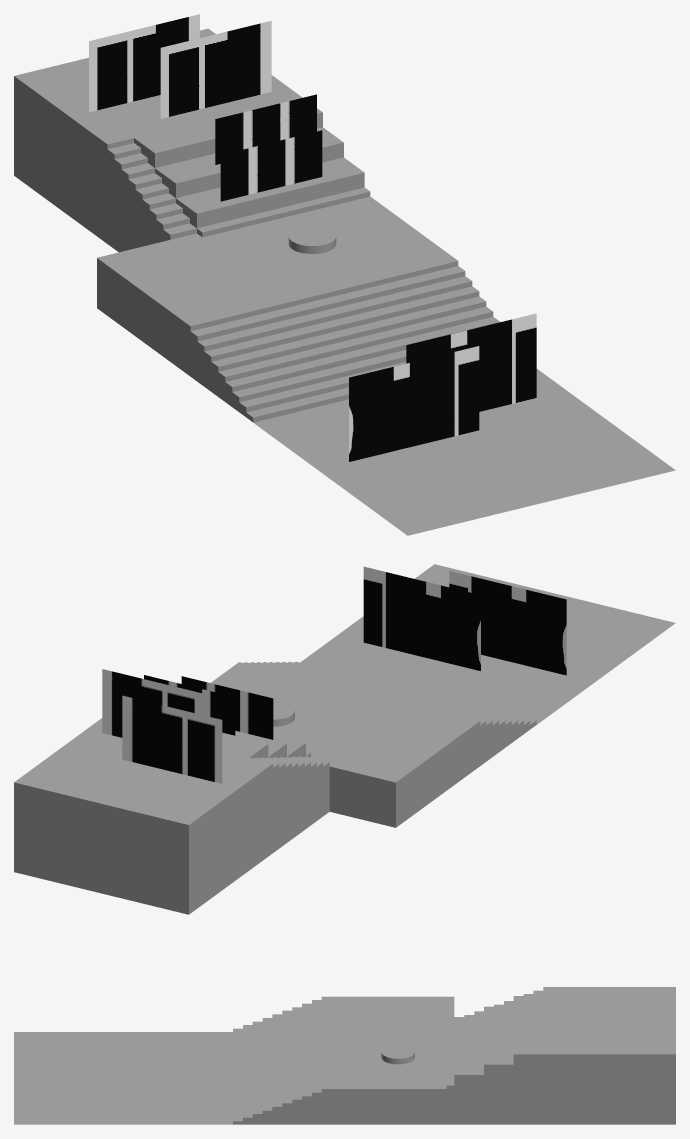
Rendered from alter3_stage.fbx.
3 views of the same model, one above another, from view 1: azimuth 30°, elevation 25°; view 2: azimuth 150°, elevation 25°; view 3: azimuth 270°, elevation 25° (orthographic). The views are drawn at different scales.
Visible parts, largest first — view 1: mdl_floor, mdl_camera01, mdl_orchestra01, mdl_camera02, mdl_orchestra02, mdl_orchestra03, mdl_orchestra04, mdl_Table; view 2: mdl_floor, mdl_camera02, mdl_camera01, mdl_orchestra02, mdl_orchestra01, mdl_orchestra03, mdl_orchestra04; view 3: mdl_floor, mdl_Table.
Boxes of the visible parts, x1,y1,x2,y2 form: mdl_floor: (14, 28, 675, 535); mdl_camera01: (349, 346, 479, 461); mdl_orchestra01: (160, 21, 271, 118); mdl_camera02: (406, 313, 536, 411); mdl_orchestra02: (89, 14, 199, 112); mdl_orchestra03: (220, 130, 322, 201); mdl_orchestra04: (215, 94, 316, 164); mdl_Table: (288, 226, 336, 253); mdl_floor: (14, 564, 675, 914); mdl_camera02: (363, 566, 480, 670); mdl_camera01: (449, 571, 566, 675); mdl_orchestra02: (122, 695, 222, 783); mdl_orchestra01: (102, 669, 202, 737); mdl_orchestra03: (181, 676, 273, 739); mdl_orchestra04: (144, 675, 235, 735); mdl_floor: (14, 987, 675, 1124); mdl_Table: (381, 1044, 414, 1064).
Size of the model in its own units: 711 by 433 by 2146.
